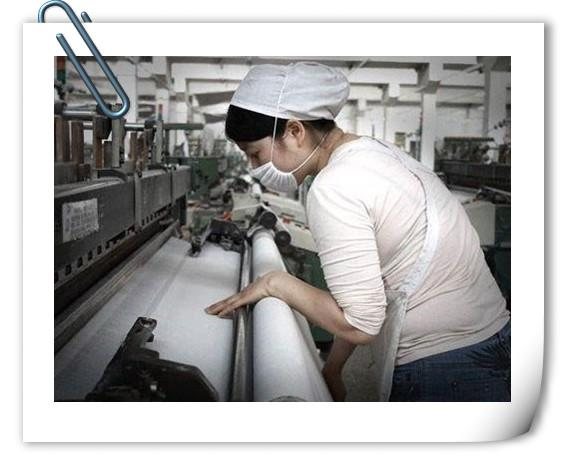WRONG: (244, 126, 314, 196)
